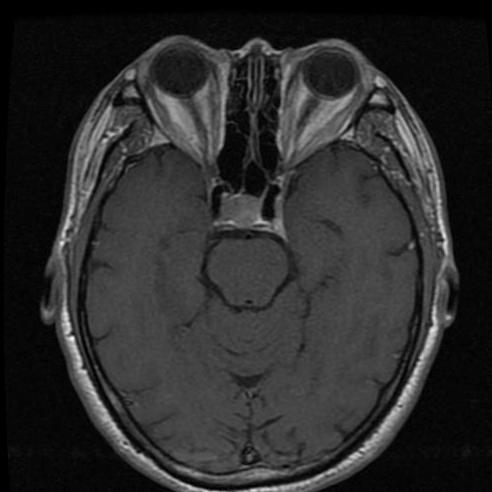Tumour-Pituitary: (210, 191, 287, 237)
